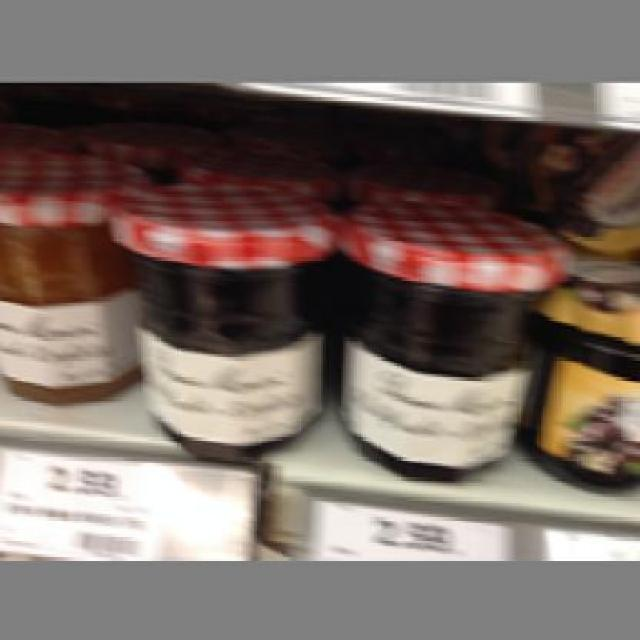Jam: (336, 200, 570, 477), (106, 180, 332, 460), (0, 148, 137, 404)
